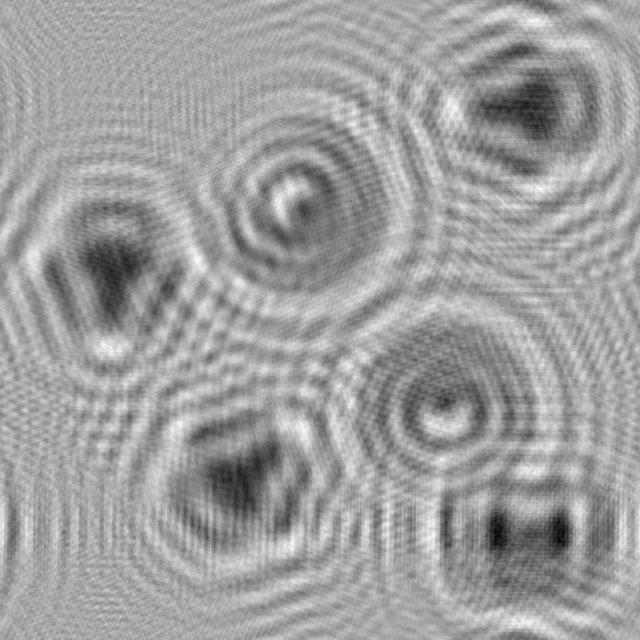A: (84, 327, 384, 622), (0, 140, 230, 415), (387, 0, 640, 249)
C: (157, 50, 443, 346), (306, 263, 581, 535)
E: (390, 423, 640, 640)
